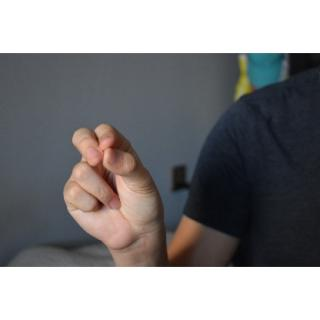QAAF: (61, 120, 169, 266)
